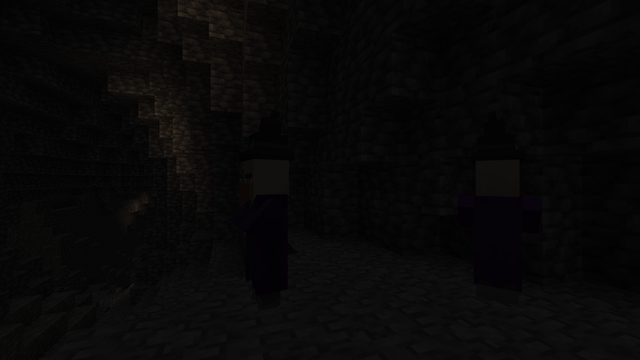sorcieres: (461, 153, 534, 311), (241, 152, 292, 314)
